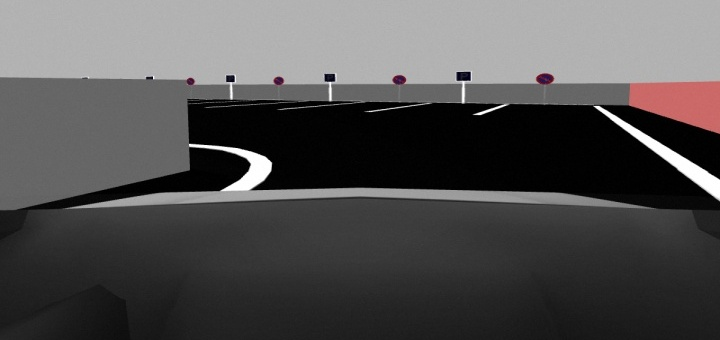park_yapilmaz: (535, 69, 557, 87)
